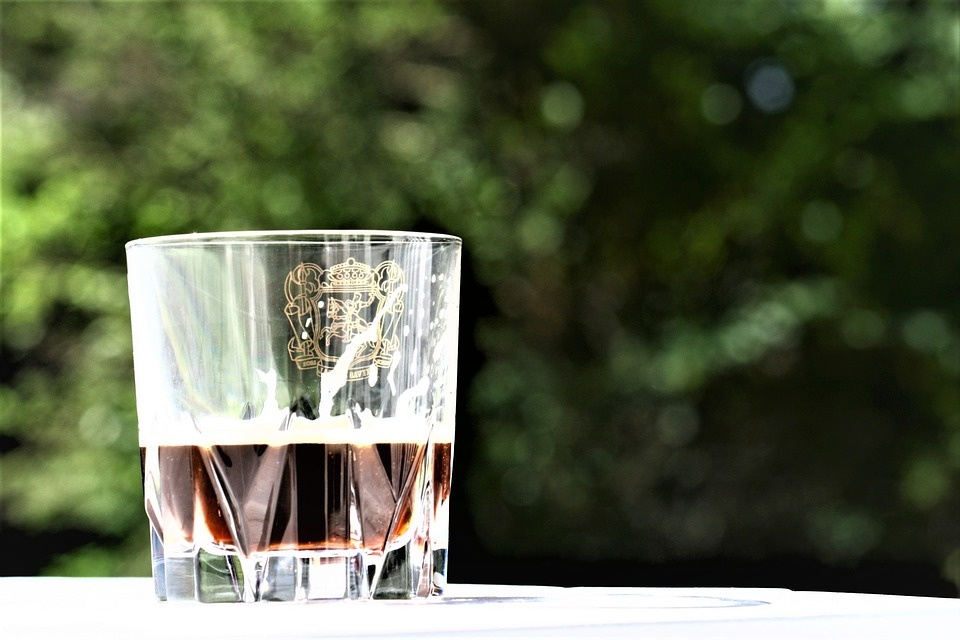glassBeer: (135, 217, 470, 599)
